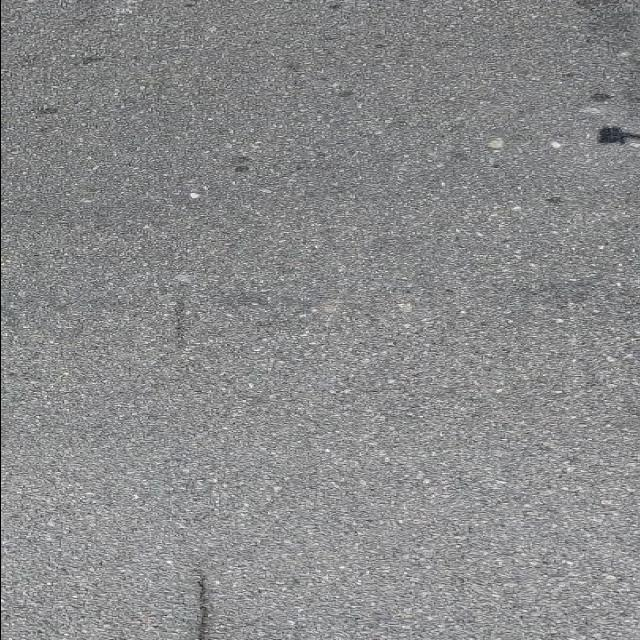cracks: (164, 552, 230, 640)
